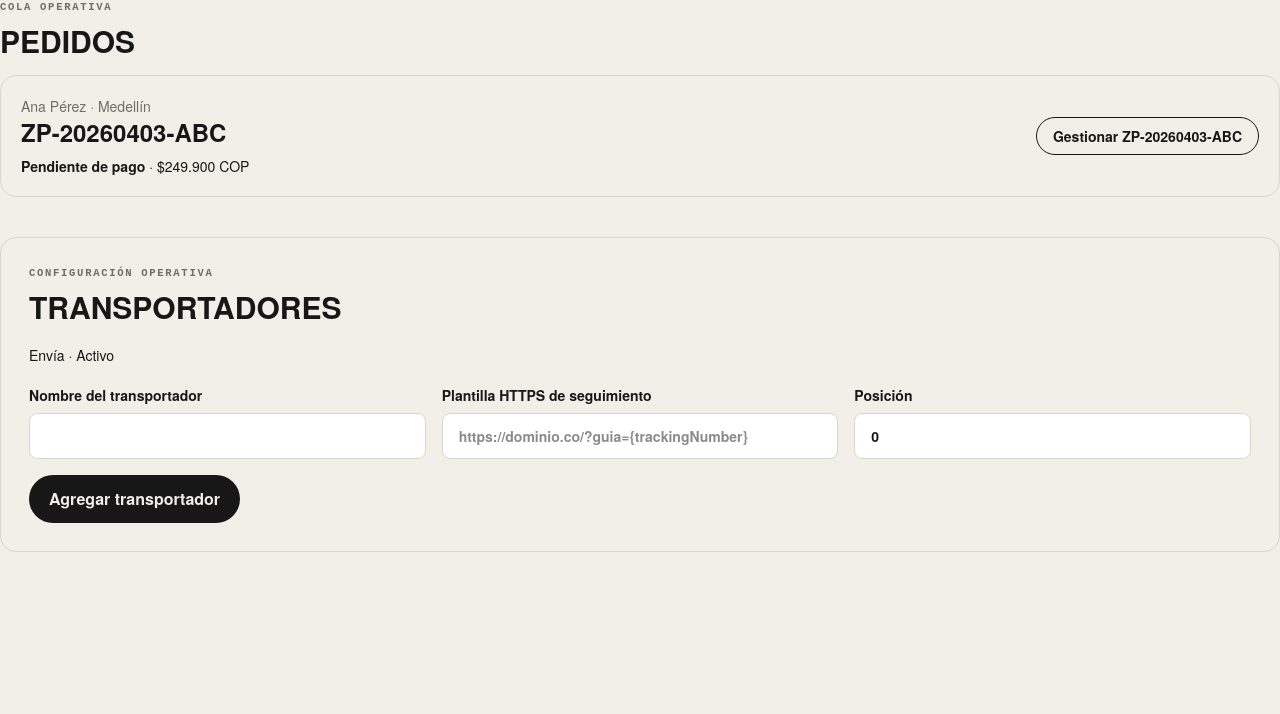
Test: admin order operations › loads the queue, opens protected detail, and shows state history
Check: the heading "ZP-20260403-ABC" is shown, box [21,115,226,149]
Check: the text "1234567" is not shown
Click the button "Gestionar ZP-20260403-ABC" at (1147, 136), box [1036,117,1259,155]
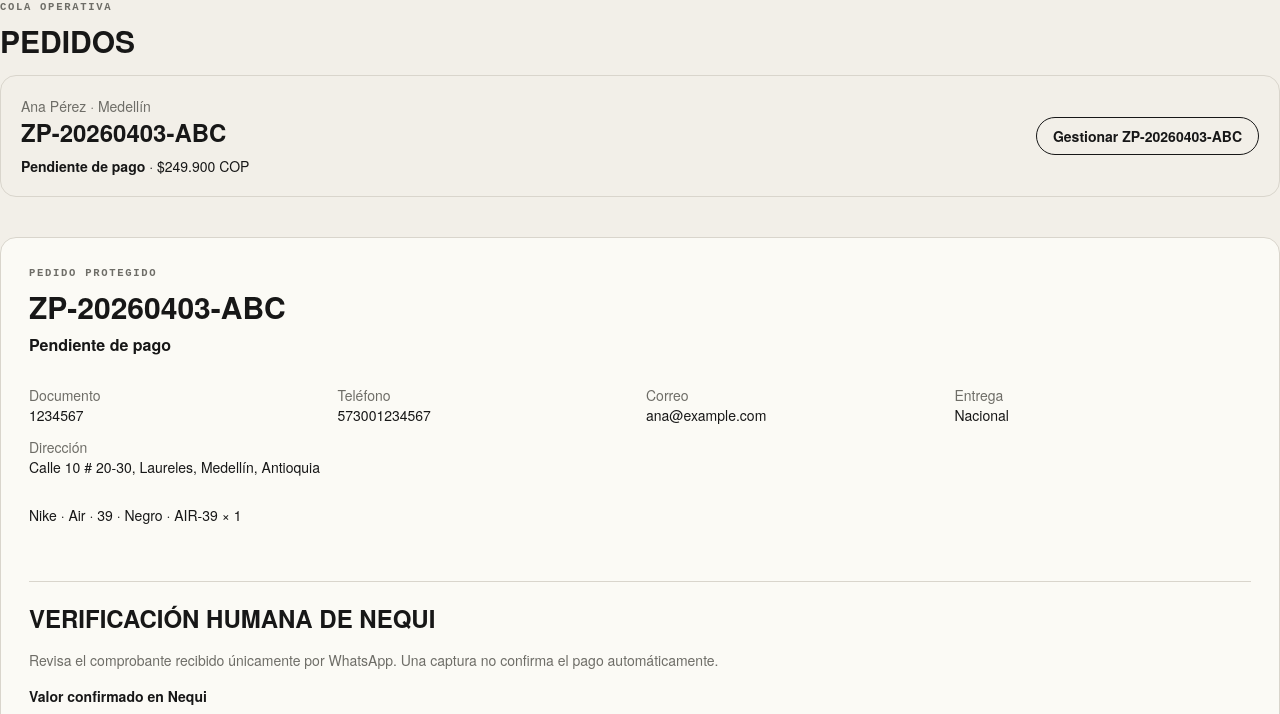
Check: the text "Pendiente de pago" next to "$249.900 COP" is shown, box [21,156,145,176]
Check: the text "1234567" is shown, box [29,405,84,425]
Check: the text "Calle 10 # 20-30, Laureles, Medellín, Antioquia" is shown, box [29,457,320,477]
